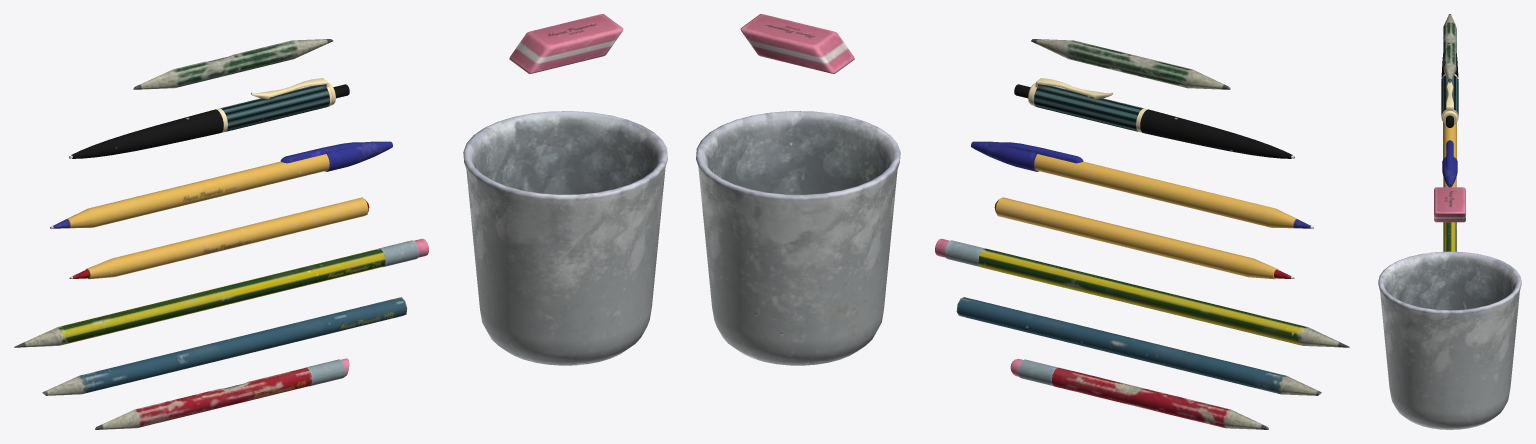
File: stationery.glb
The picture shows the model from 3 angles, left to right: view 1: azimuth 30°, elevation 25°; view 2: azimuth 150°, elevation 25°; view 3: azimuth 270°, elevation 25°; orthographic projection. The views are drawn at different scales.
Parts seen in each view (by area): view 1: stationery_m_8, stationery_m_4, stationery_m_5, stationery_m_1, stationery_m_2, stationery_m_3, stationery_m_7, stationery_m_0, stationery_m_6; view 2: stationery_m_8, stationery_m_4, stationery_m_5, stationery_m_1, stationery_m_2, stationery_m_3, stationery_m_7, stationery_m_0, stationery_m_6; view 3: stationery_m_8, stationery_m_0, stationery_m_2, stationery_m_1, stationery_m_6, stationery_m_4.
Boxes of the visible parts, left/top/right/bottom form: stationery_m_8: left=463, top=111, right=667, bottom=365; stationery_m_4: left=14, top=238, right=428, bottom=347; stationery_m_5: left=42, top=297, right=407, bottom=395; stationery_m_1: left=50, top=141, right=392, bottom=228; stationery_m_2: left=69, top=78, right=349, bottom=158; stationery_m_3: left=69, top=197, right=369, bottom=279; stationery_m_7: left=95, top=358, right=349, bottom=429; stationery_m_0: left=509, top=14, right=623, bottom=73; stationery_m_6: left=133, top=39, right=333, bottom=89; stationery_m_8: left=696, top=111, right=900, bottom=365; stationery_m_4: left=935, top=238, right=1349, bottom=347; stationery_m_5: left=956, top=297, right=1321, bottom=395; stationery_m_1: left=971, top=141, right=1313, bottom=228; stationery_m_2: left=1014, top=78, right=1294, bottom=158; stationery_m_3: left=994, top=197, right=1294, bottom=279; stationery_m_7: left=1010, top=359, right=1268, bottom=429; stationery_m_0: left=740, top=14, right=854, bottom=73; stationery_m_6: left=1031, top=39, right=1230, bottom=89; stationery_m_8: left=1378, top=251, right=1521, bottom=429; stationery_m_0: left=1434, top=187, right=1465, bottom=222; stationery_m_2: left=1441, top=53, right=1458, bottom=127; stationery_m_1: left=1442, top=122, right=1457, bottom=187; stationery_m_6: left=1443, top=14, right=1456, bottom=82; stationery_m_4: left=1443, top=222, right=1456, bottom=251.
Size of the model in its own units: 0.3019 by 0.1643 by 0.0837.
1 material, 1 textured.
